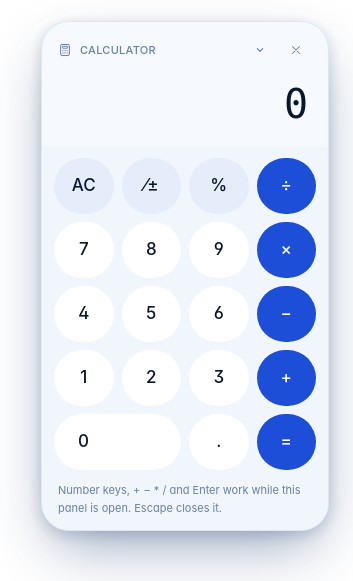
FloatingCalculator › minimises from the title bar button
This screenshot has width=353, height=581.
What coordinates should you click on to do the following:
click the button named "minimise the calculator"
I would click on:
 (260, 50)
Its box is [244,34,276,66].
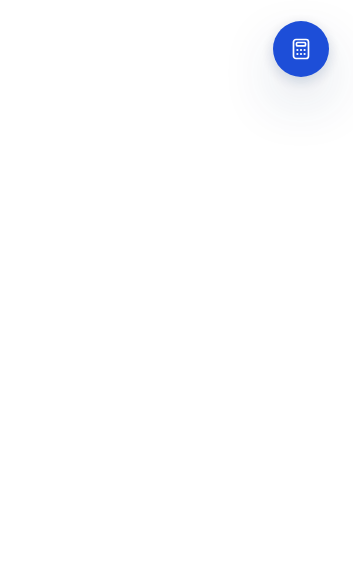
expect the button named "open the calculator" is shown: met, box [273,21,329,77]
